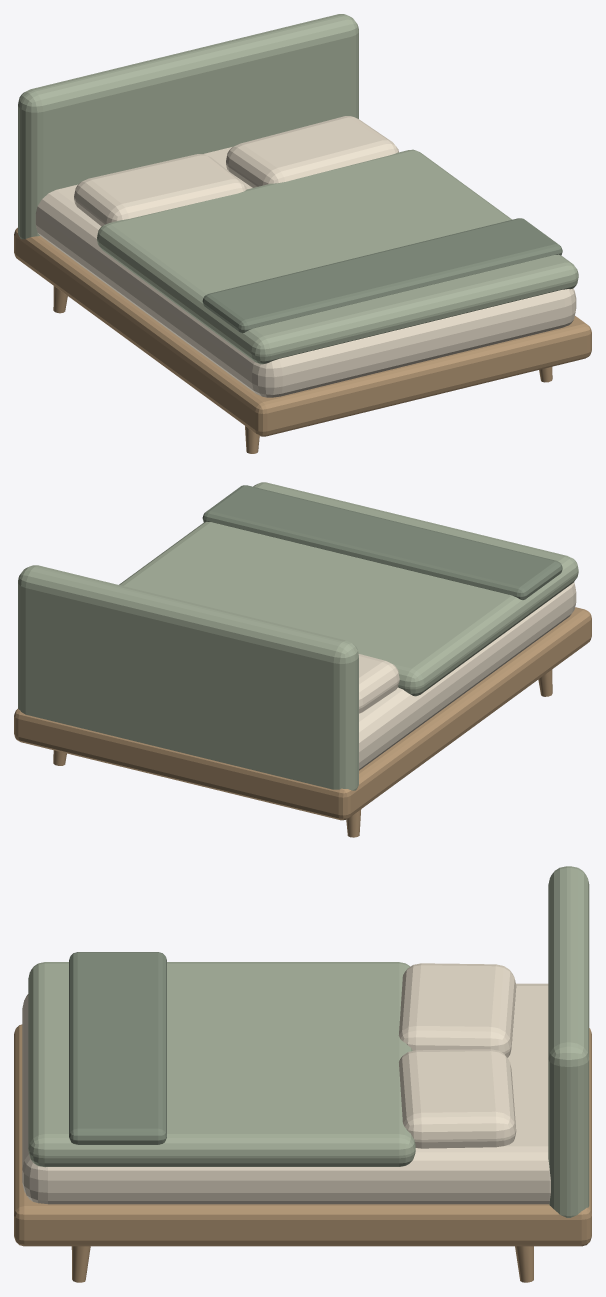
File: bed-linen.glb
3 renders of one model, top to bottom at view 1: azimuth 30°, elevation 25°; view 2: azimuth 150°, elevation 25°; view 3: azimuth 270°, elevation 25°, orthographic. The views are drawn at different scales.
Parts seen in each view (by area): view 1: bed-linen; view 2: bed-linen; view 3: bed-linen.
Part boxes in pixels (x1,y1,x2,y2): bed-linen: (14,14,591,453); bed-linen: (14,482,591,837); bed-linen: (14,866,591,1282).
Size of the model in its own units: 1.65 by 0.98 by 2.12.
